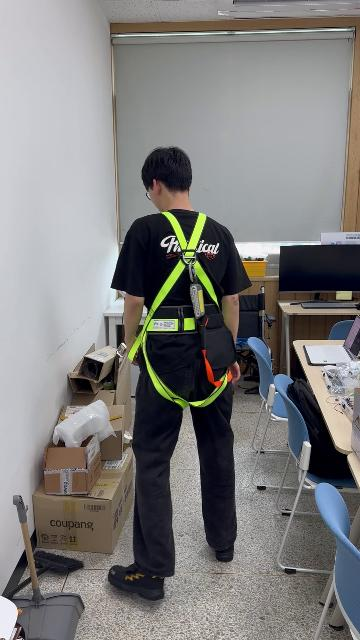helmet_not_worn: (139, 147, 196, 196)
shoe_worn: (108, 565, 165, 602), (214, 545, 234, 562)
vest_worn: (126, 217, 231, 406)
